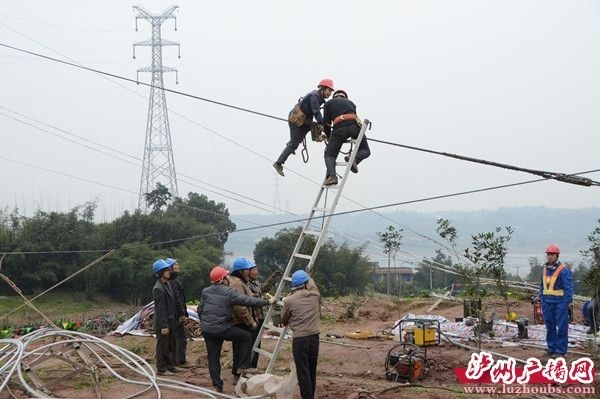blue: (151, 258, 170, 281), (290, 268, 309, 291), (232, 255, 250, 279), (166, 256, 180, 274), (247, 260, 258, 279)
red: (209, 263, 231, 288), (315, 76, 335, 100), (544, 242, 560, 265)
